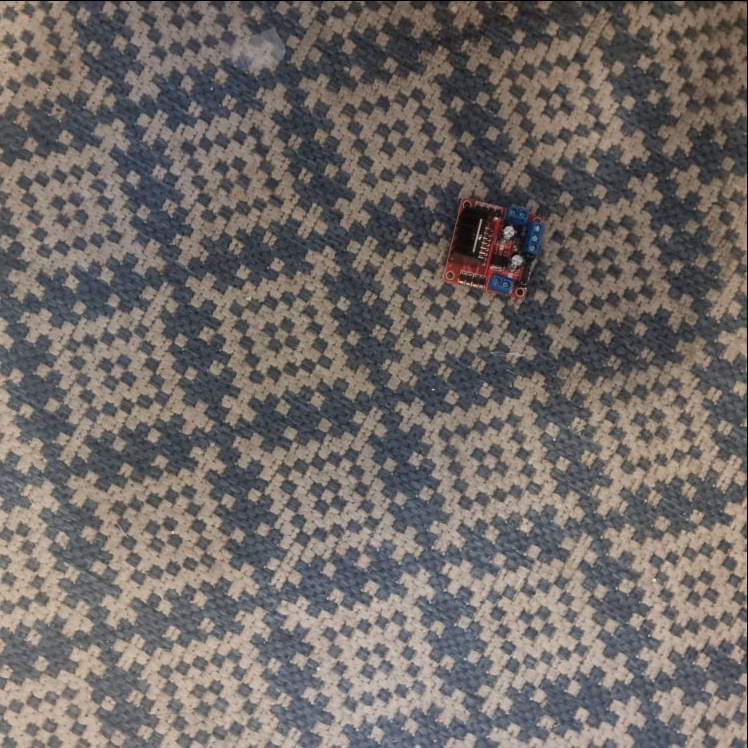MOTOR: (445, 191, 547, 300)
